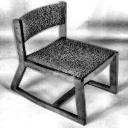chair_success: (0, 0, 127, 128)
